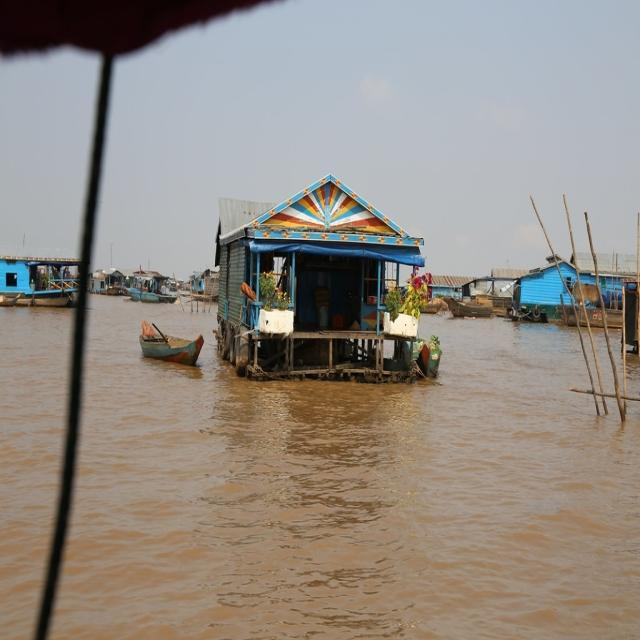Raft: (208, 172, 453, 388)
boat: (0, 250, 74, 321), (133, 316, 210, 372), (451, 299, 497, 318)
